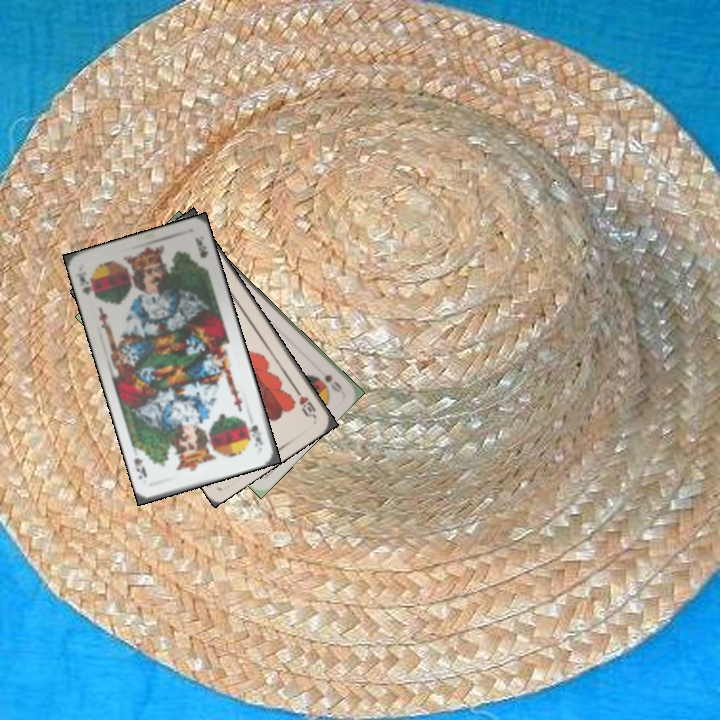H10: (291, 384, 319, 421)
SK: (75, 271, 100, 301), (245, 421, 266, 449)
SO: (320, 370, 345, 395)
